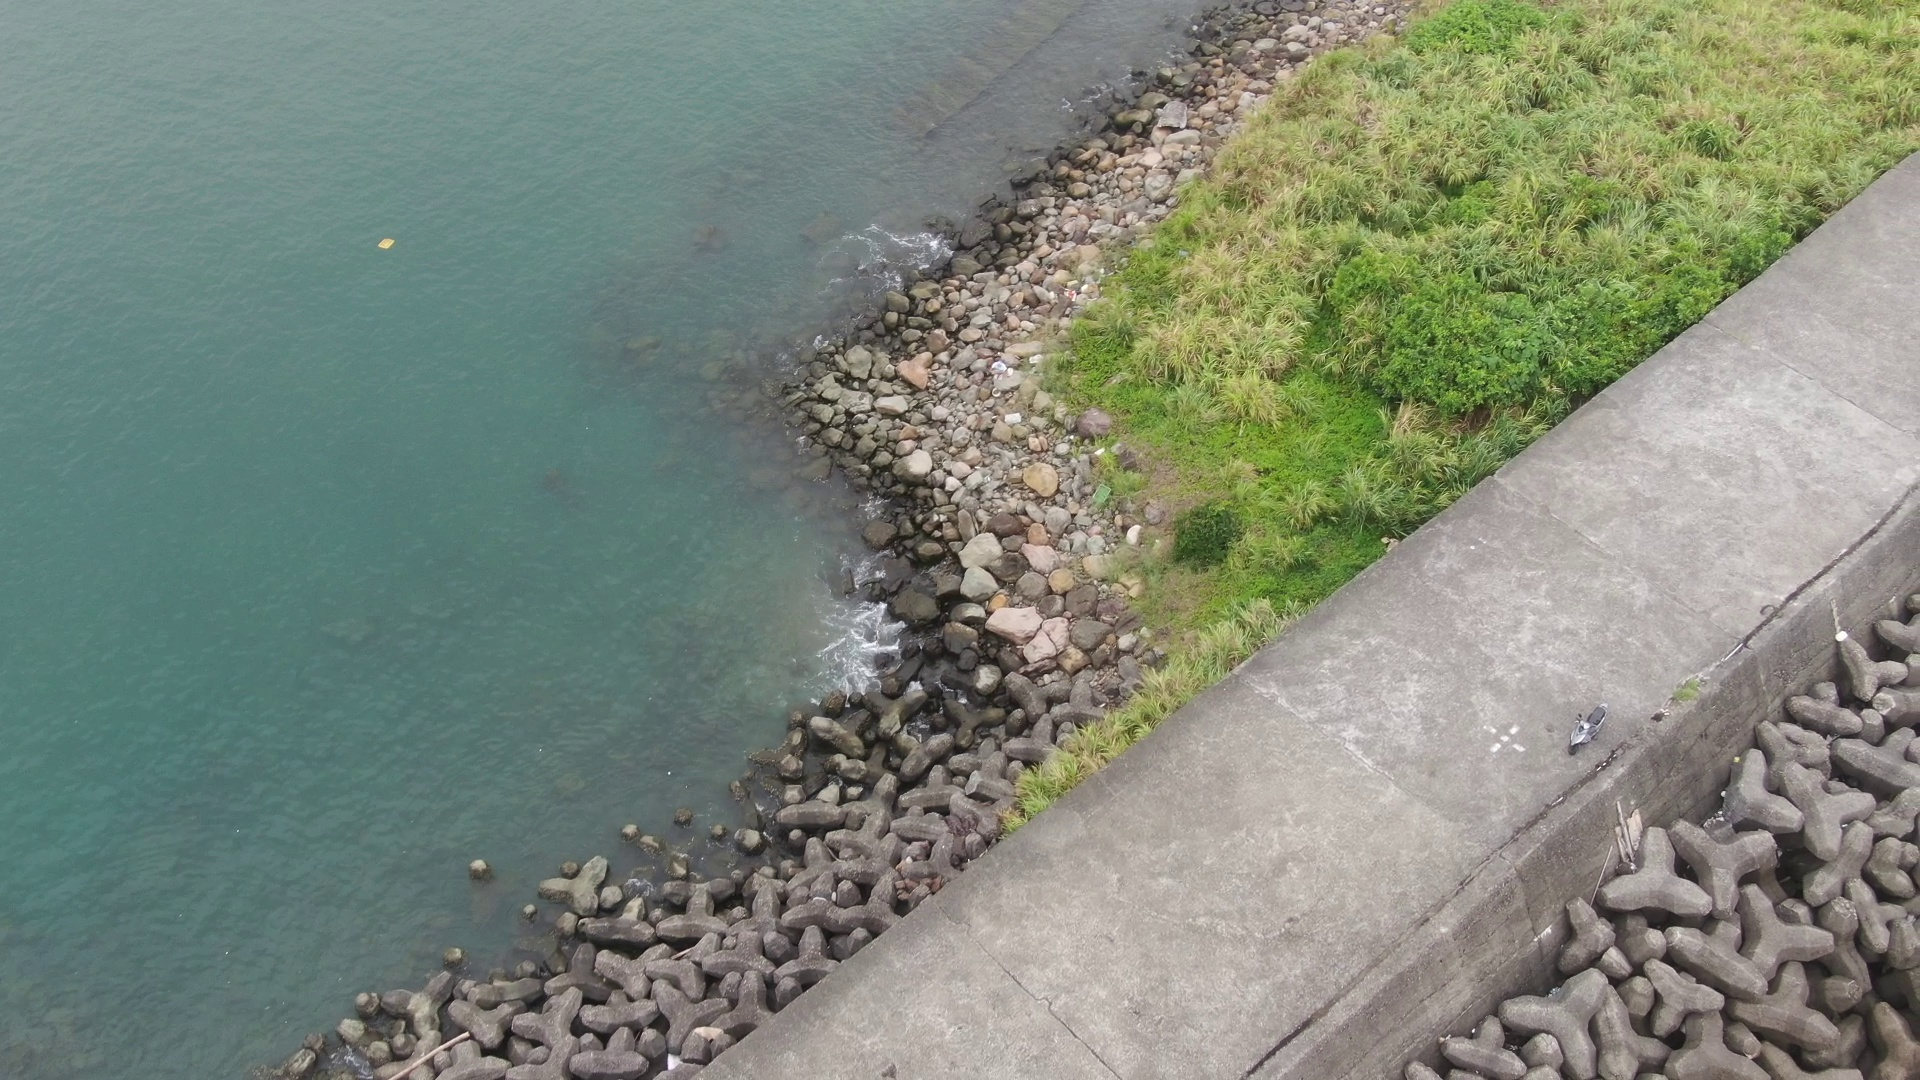garbage: (371, 224, 402, 261), (1832, 624, 1855, 644)
